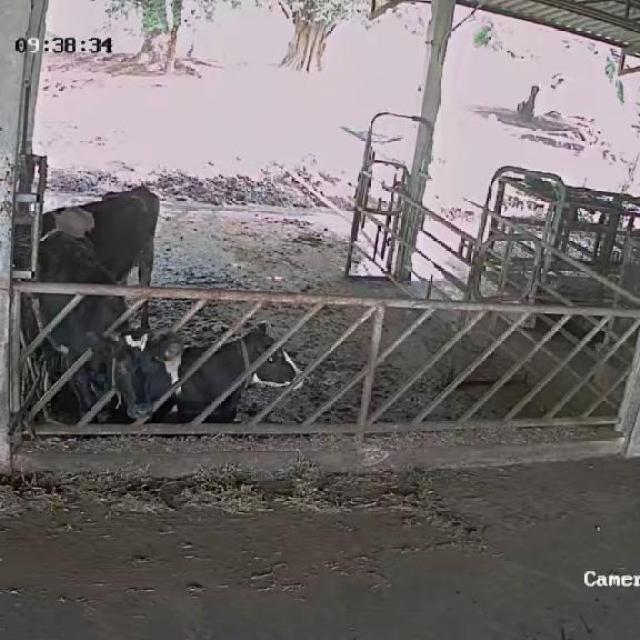drinking: (14, 182, 160, 337)
feeding: (32, 230, 172, 429)
lying down: (149, 316, 303, 424)
